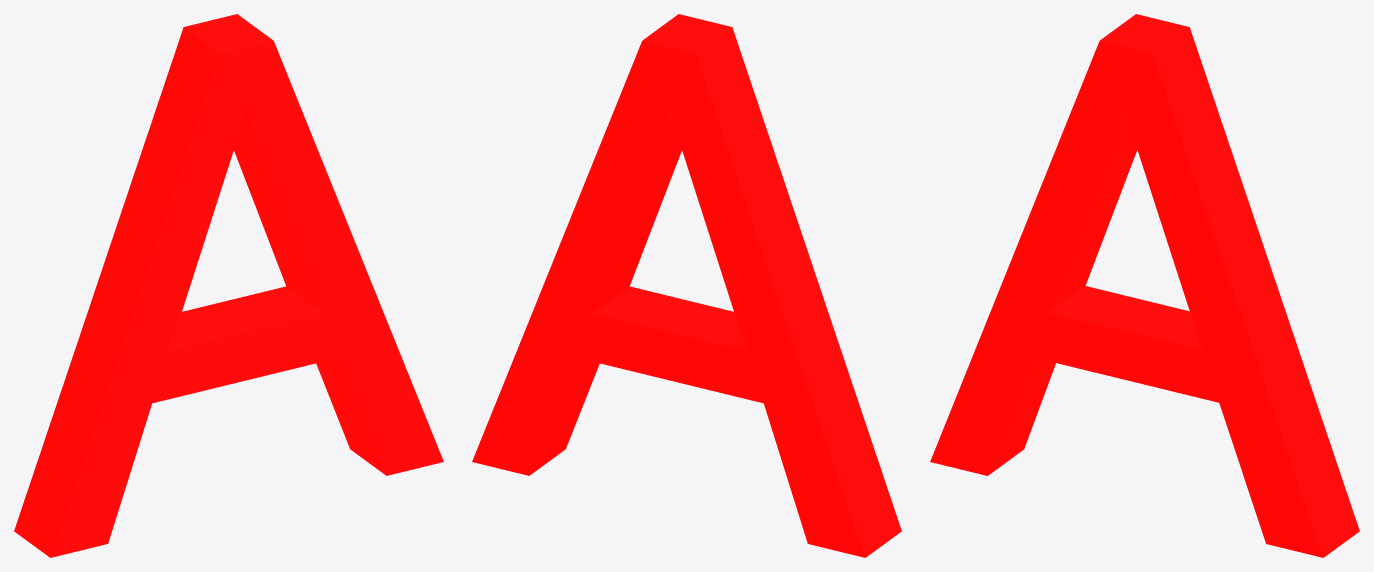
3 views of the same model, side by side, from view 1: azimuth 30°, elevation 25°; view 2: azimuth 150°, elevation 25°; view 3: azimuth 330°, elevation 25° (orthographic).
Visible parts, largest first — view 1: MoText_1; view 2: MoText_1; view 3: MoText_1.
Part boxes in pixels (x1,y1,x2,y2): MoText_1: [14, 14, 443, 557]; MoText_1: [472, 14, 901, 557]; MoText_1: [930, 14, 1359, 557].
Size of the model in its own units: 125 by 140 by 20.
